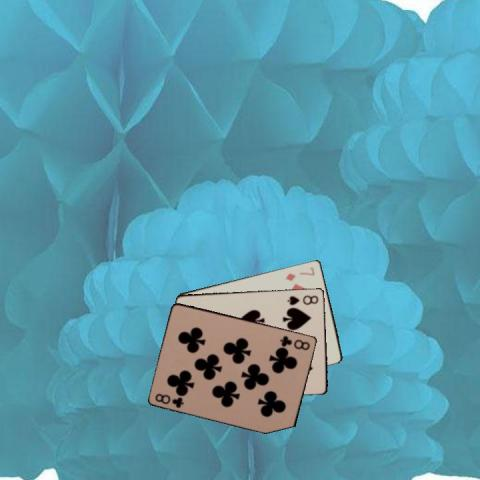7d: (283, 264, 316, 282)
8c: (152, 390, 185, 409), (278, 333, 312, 351)
8s: (285, 292, 320, 306)
